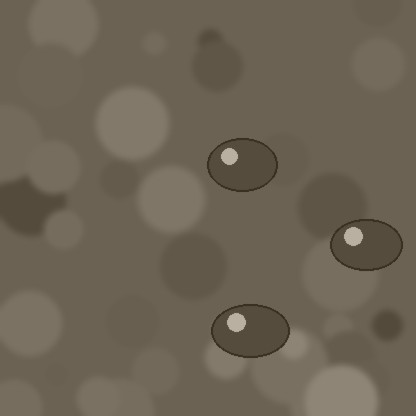gota: (211, 306, 289, 362), (207, 140, 277, 196), (330, 221, 402, 275)
